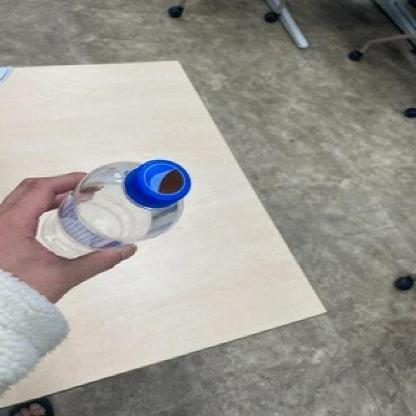Plastic Bottle: (34, 157, 192, 259)
